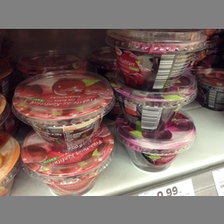jam: (10, 70, 116, 152), (107, 29, 207, 92), (20, 128, 113, 195), (110, 69, 198, 133), (114, 111, 200, 171)
